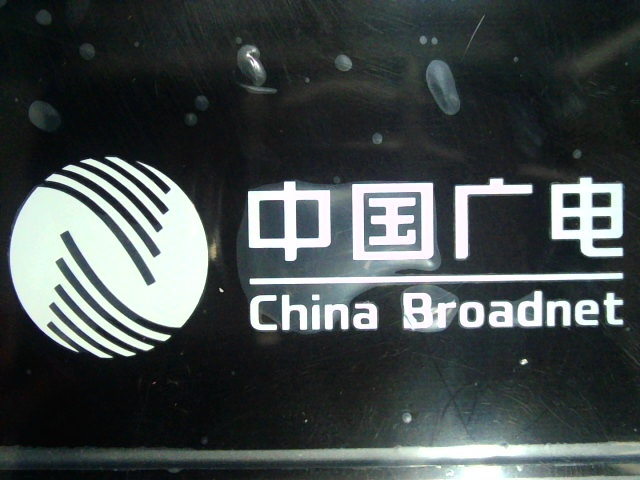AW_ChinaBroadNet: (9, 149, 633, 368)
